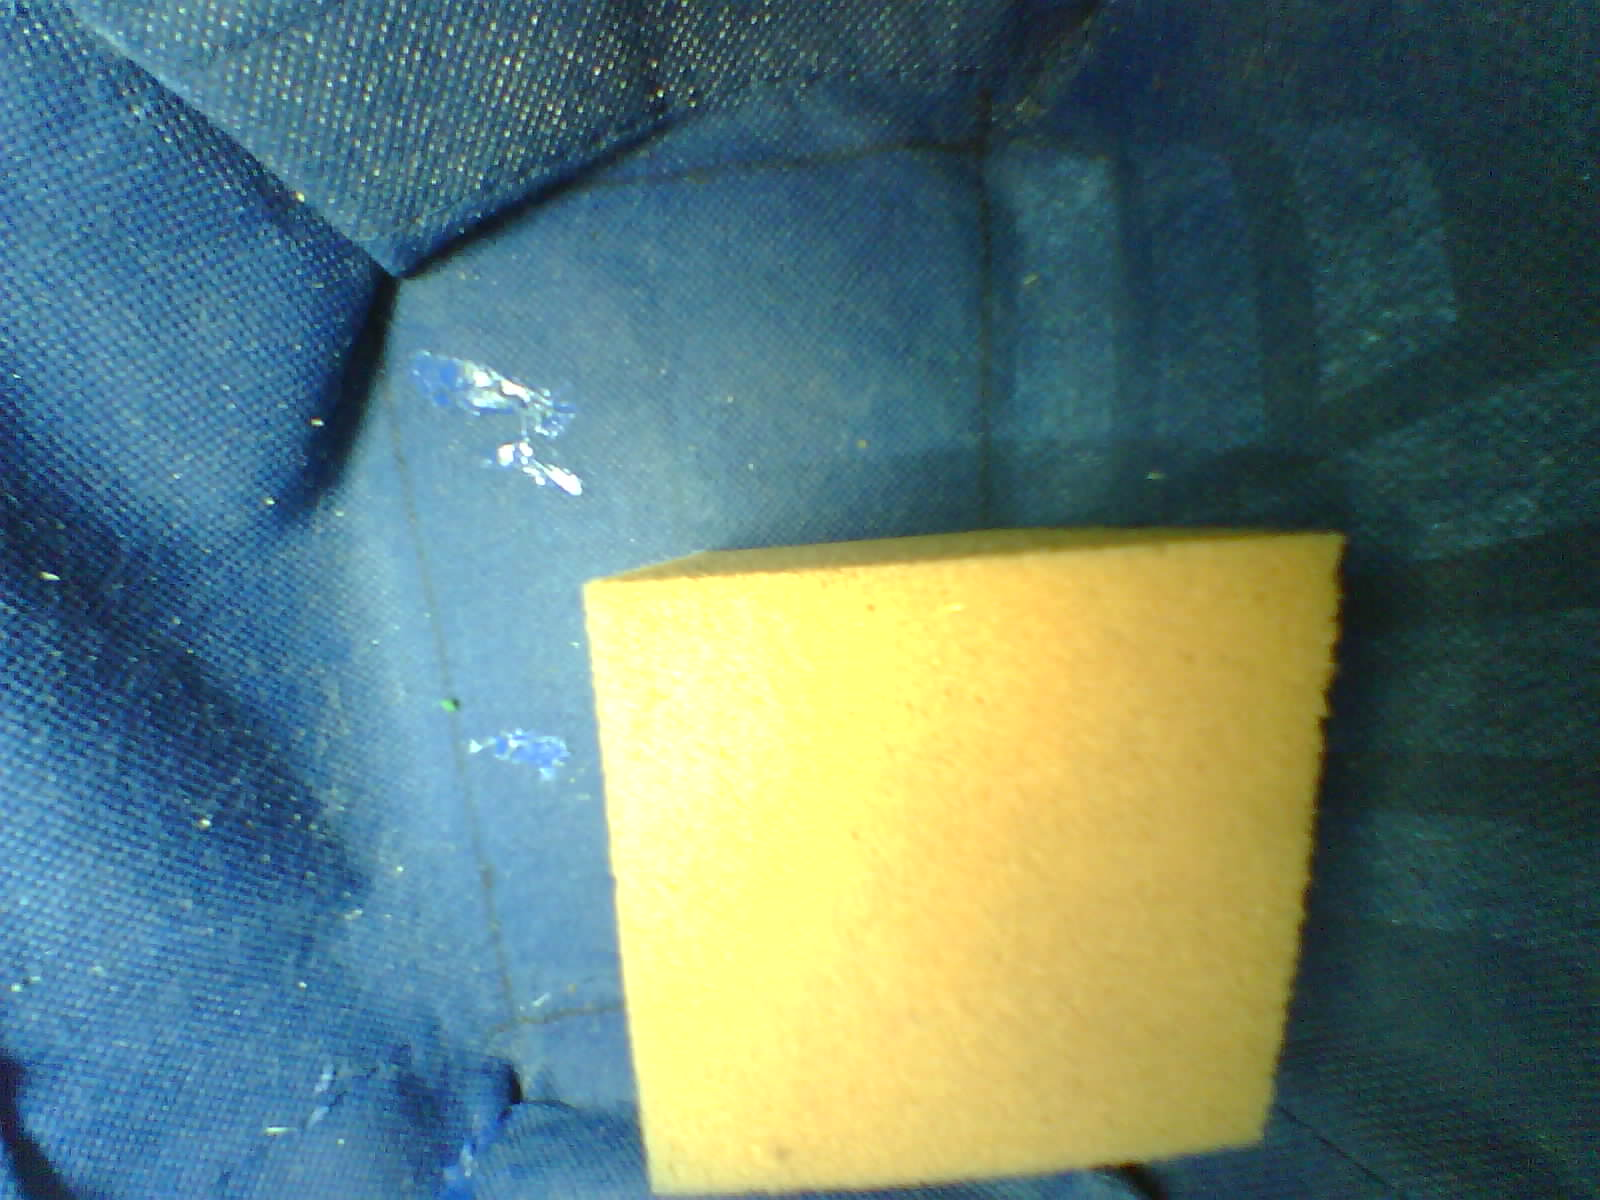cube-soft: (573, 519, 1359, 1200)
